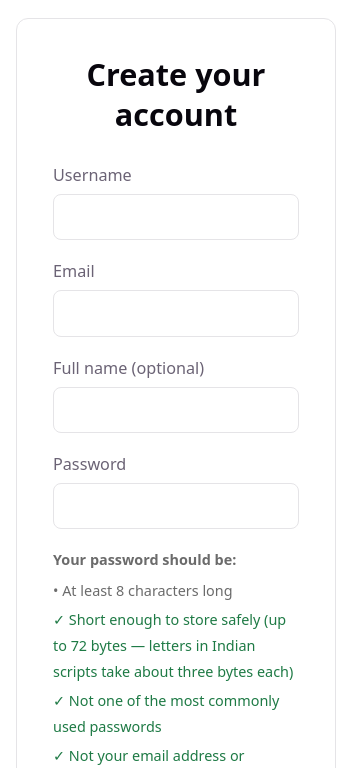
it: RegisterPage password requirements › keeps submit disabled until the password is acceptable
This screenshot has width=353, height=768.
In the password field labelled "Password": point(176, 506) 53,483 -> 299,530, type "abc"
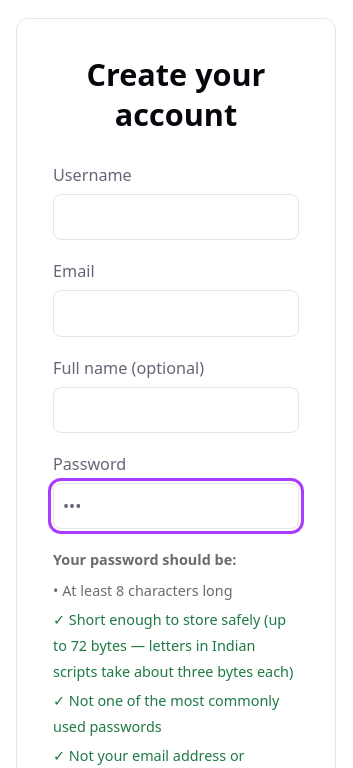
In the password field labelled "Password": point(176, 506) 53,483 -> 299,530, type "kolkata-monsoon-77"
(page scrolled)
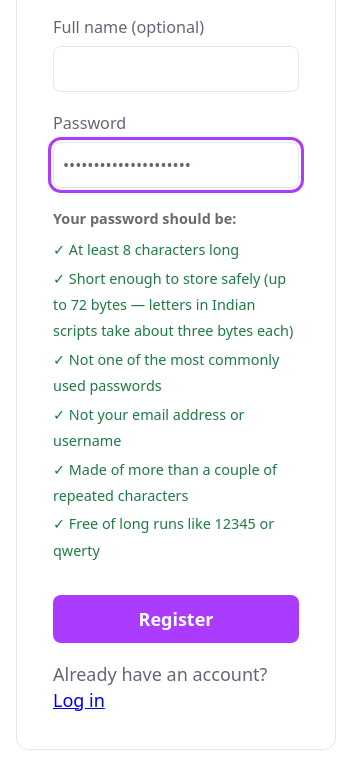
expect the button is enabled: met, box 53,595 -> 299,643
